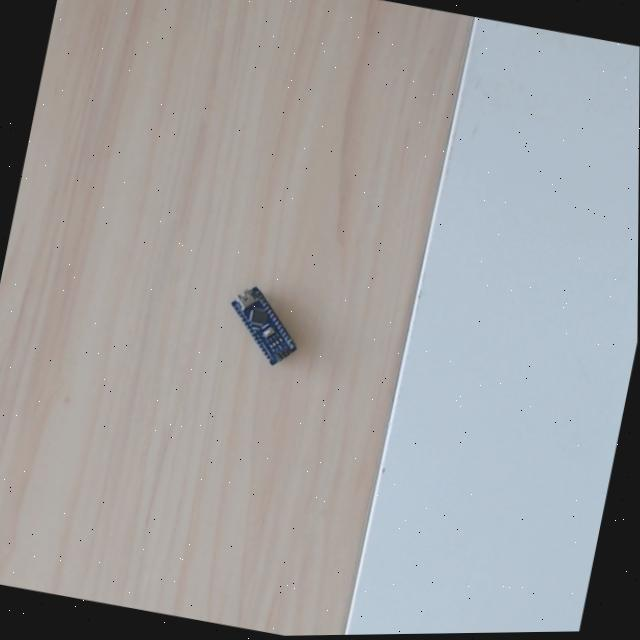Arduino-Nano: (224, 282, 297, 369)
